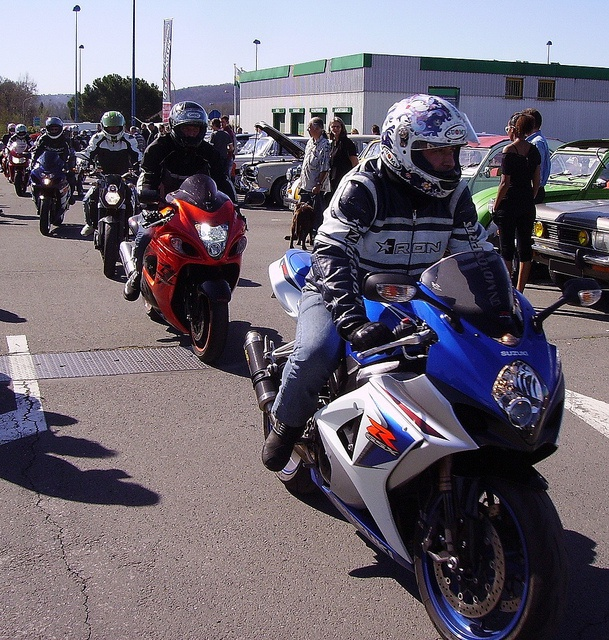non-vehicle: (242, 247, 604, 640), (119, 172, 247, 361), (73, 149, 143, 279), (25, 146, 74, 234), (0, 138, 34, 197)
